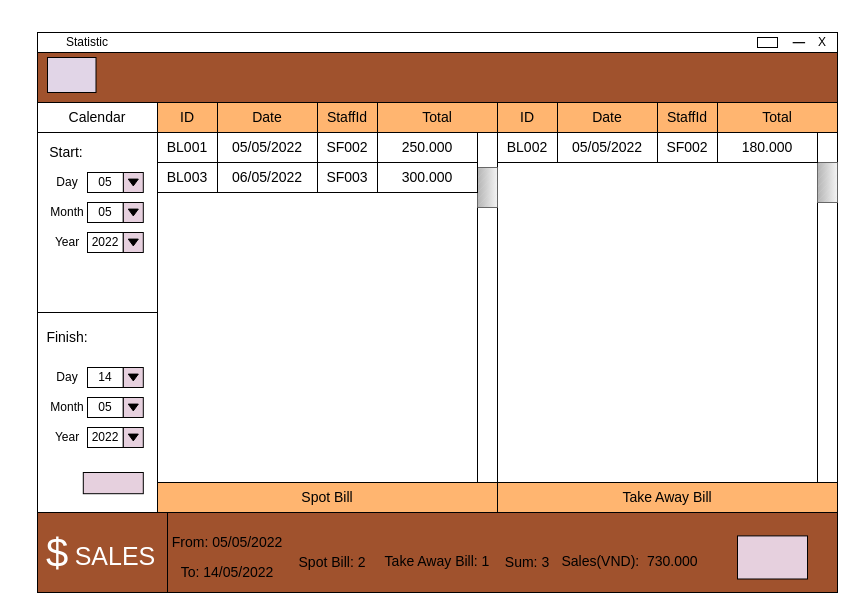
This 855x610 diagram has some shape labels left out. Each missing label, with the box of its shape:
Find: (82, 472, 143, 494)
Home: (46, 56, 96, 92)
Print: (736, 535, 808, 579)
